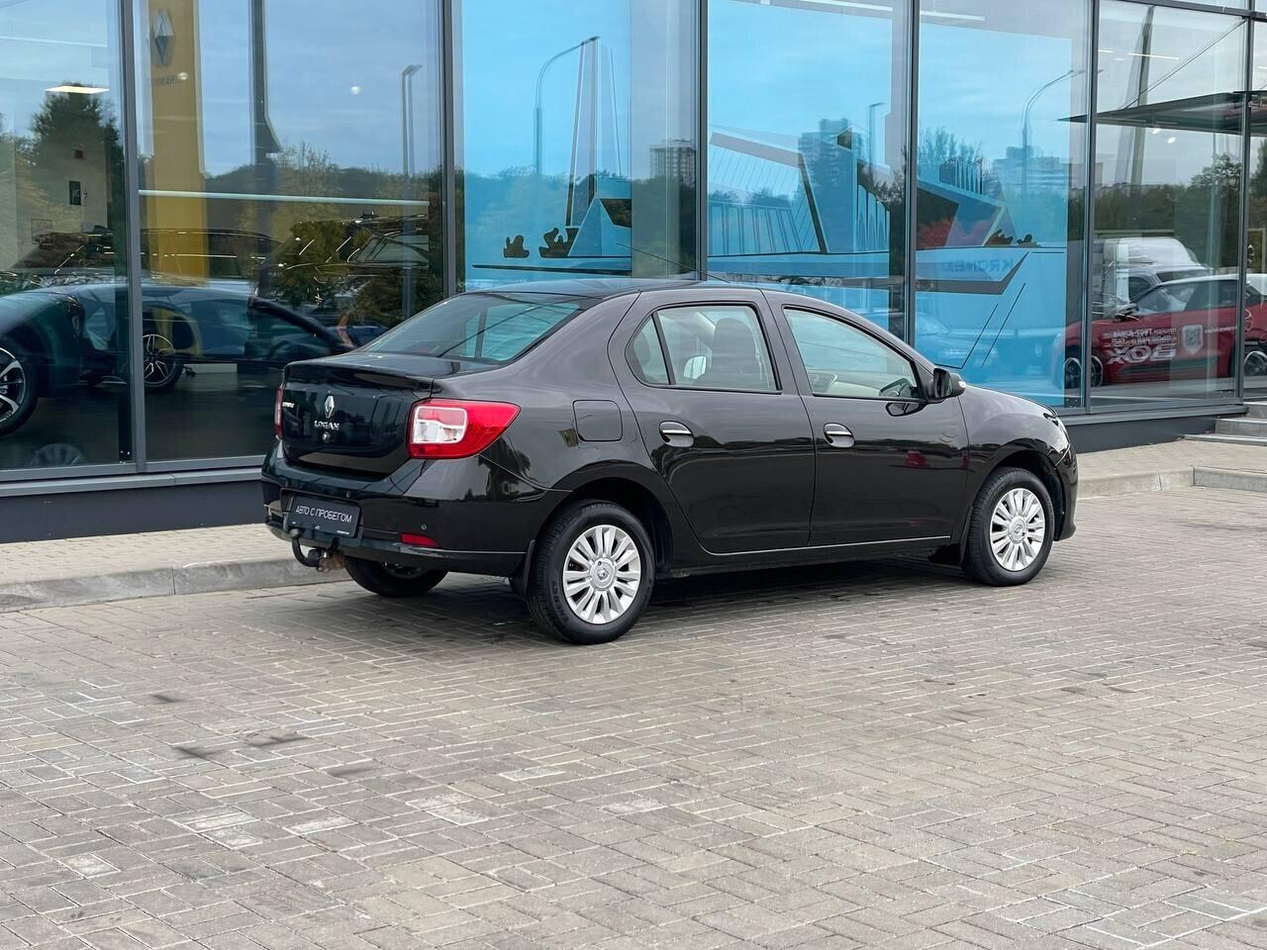Logan_2013-2018: (264, 272, 1089, 647)
